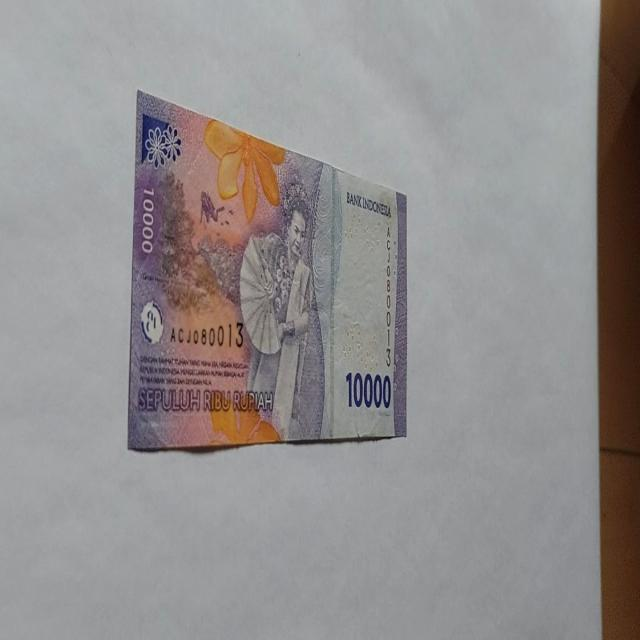sepuluh ribu rupiah: (126, 89, 408, 452)
